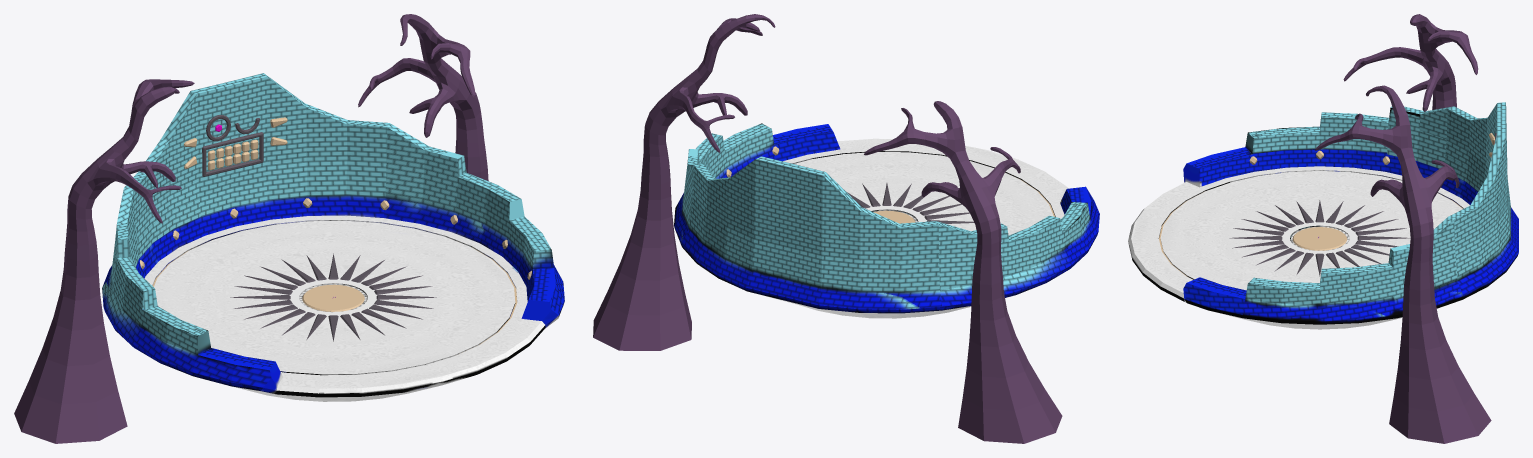
Rendered from DrmArena.fbx.
The picture shows the model from 3 angles, left to right: view 1: azimuth 30°, elevation 25°; view 2: azimuth 150°, elevation 25°; view 3: azimuth 270°, elevation 25°; orthographic projection. The views are drawn at different scales.
Visible parts, largest first — view 1: Arena, Tree01, Tree02, Relief, FaceTeeth, FaceMouth; view 2: Arena, Tree01, Tree02, Relief; view 3: Arena, Tree02, Tree01, Relief.
Part boxes in pixels (box(x1,y1,x2,y2)): Arena: box(102, 73, 564, 401); Tree01: box(14, 79, 194, 443); Tree02: box(358, 14, 488, 180); Relief: box(230, 253, 436, 341); FaceTeeth: box(208, 139, 258, 170); FaceMouth: box(202, 132, 263, 176); Arena: box(674, 123, 1099, 318); Tree01: box(864, 101, 1062, 443); Tree02: box(593, 14, 775, 350); Relief: box(847, 183, 974, 223); Arena: box(1128, 102, 1518, 329); Tree02: box(1315, 85, 1491, 443); Tree01: box(1343, 14, 1478, 111); Relief: box(1229, 200, 1410, 276).
Bounding box in the file's own units: 3012 × 2021 × 2355.
8 materials, 1 textured.
